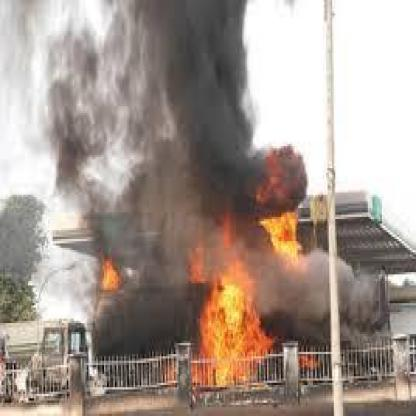fire: (188, 199, 312, 394), (96, 248, 122, 293)
smoke: (1, 0, 353, 323)
